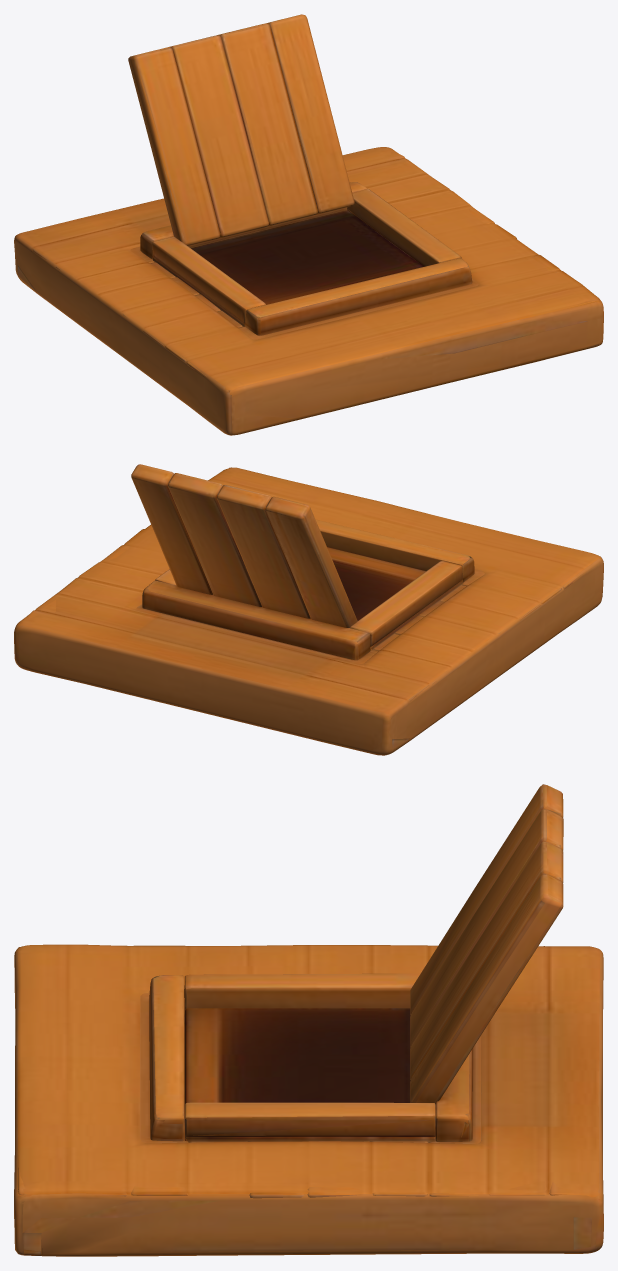
The model's file is cache.glb.
3 views of the same model, one above another, from view 1: azimuth 30°, elevation 25°; view 2: azimuth 150°, elevation 25°; view 3: azimuth 270°, elevation 25° (orthographic). The views are drawn at different scales.
Parts seen in each view (by area): view 1: Model; view 2: Model; view 3: Model.
Boxes of the visible parts, x1,y1,x2,y2 form: Model: [14, 14, 603, 435]; Model: [14, 464, 603, 755]; Model: [14, 784, 603, 1256].
Bounding box in the file's own units: 0.998 × 0.5464 × 0.9932.
Materials: 1 (1 with a texture image).
